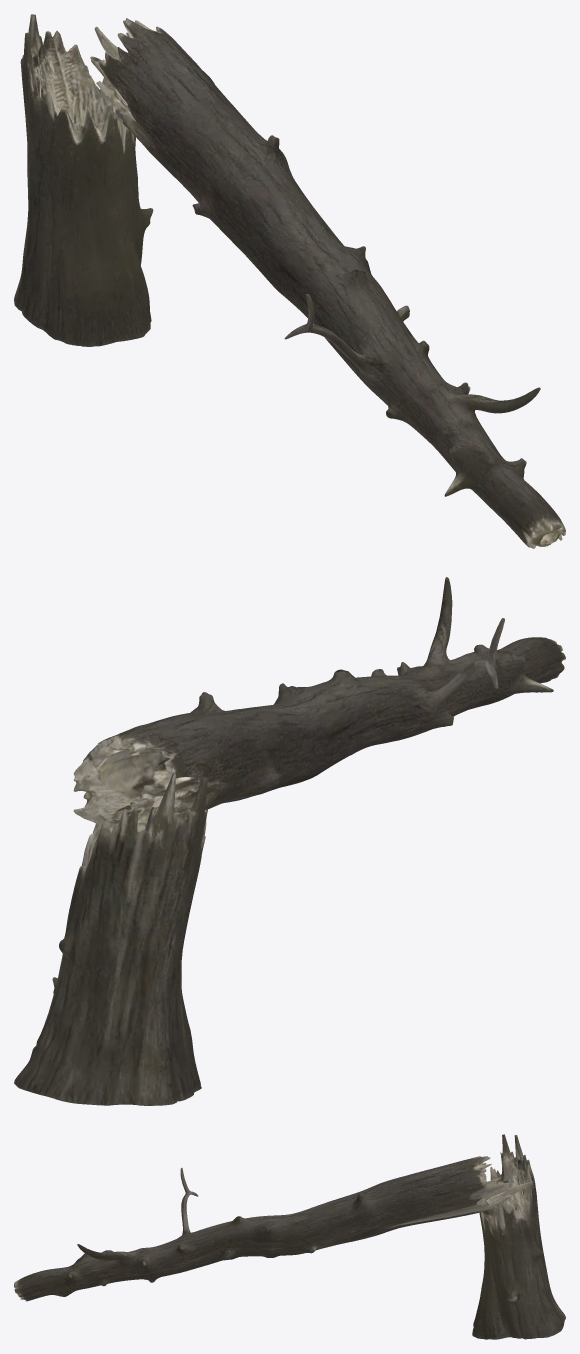
The model's file is brokentree.glb.
3 renders of one model, top to bottom at view 1: azimuth 30°, elevation 25°; view 2: azimuth 150°, elevation 25°; view 3: azimuth 270°, elevation 25°, orthographic. The views are drawn at different scales.
Parts seen in each view (by area): view 1: Mesh_0.003; view 2: Mesh_0.003; view 3: Mesh_0.003.
Part boxes in pixels (x1=…): Mesh_0.003: x1=14, y1=14, x2=565, y2=548; Mesh_0.003: x1=14, y1=577, x2=565, y2=1105; Mesh_0.003: x1=14, y1=1134, x2=565, y2=1339.
Size of the model in its own units: 0.3593 by 0.7057 by 1.95.
1 material, 1 textured.
